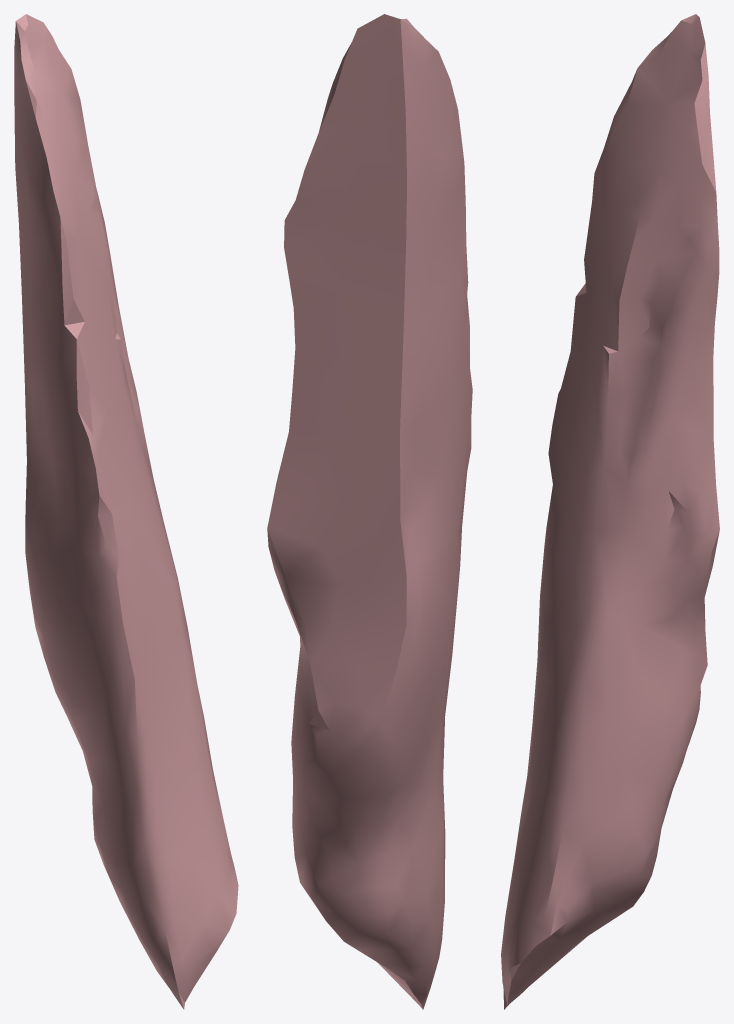
The model's file is fma47093_mm1687m.glb.
3 renders of one model, left to right at view 1: azimuth 30°, elevation 25°; view 2: azimuth 150°, elevation 25°; view 3: azimuth 270°, elevation 25°, orthographic. The views are drawn at different scales.
Visible parts, largest first — view 1: FMA47093_MM1687M; view 2: FMA47093_MM1687M; view 3: FMA47093_MM1687M.
Part boxes in pixels (bbox=[...]): FMA47093_MM1687M: bbox=[14, 14, 238, 1009]; FMA47093_MM1687M: bbox=[267, 14, 472, 1009]; FMA47093_MM1687M: bbox=[501, 14, 719, 1009].
Size of the model in its own units: 0.0102 by 0.0577 by 0.0119.
